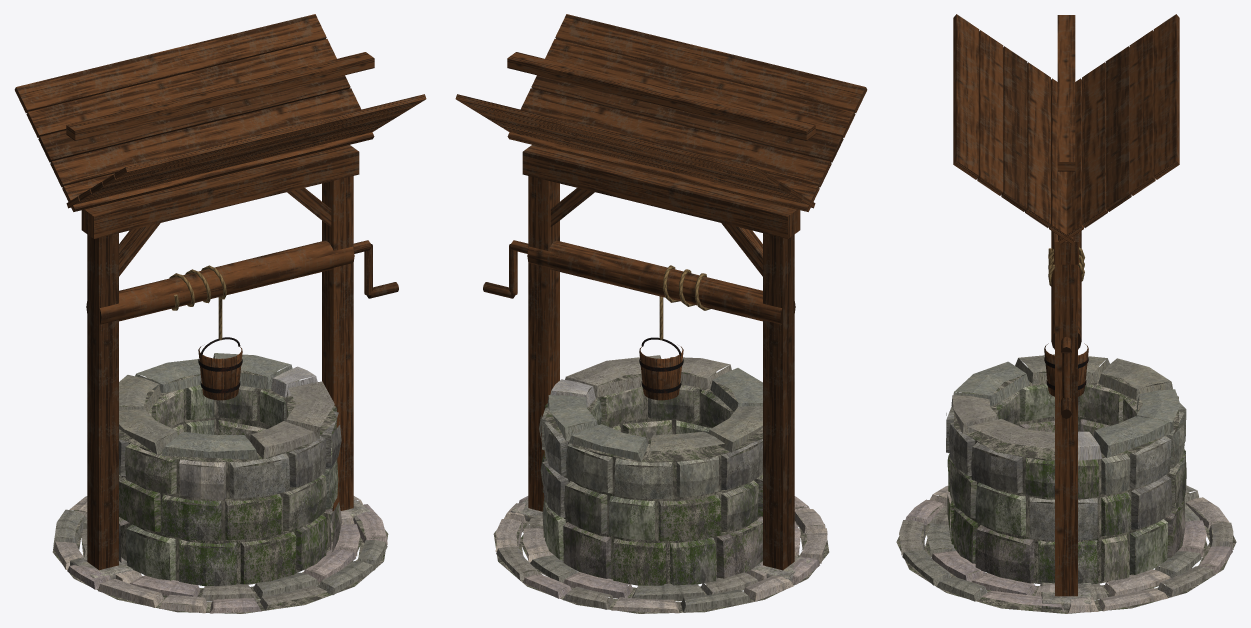
File: well.glb
The picture shows the model from 3 angles, left to right: view 1: azimuth 30°, elevation 25°; view 2: azimuth 150°, elevation 25°; view 3: azimuth 270°, elevation 25°; orthographic projection.
Visible parts, largest first — view 1: well; view 2: well; view 3: well.
Part boxes in pixels (x1,y1,x2,y2): well: [14, 14, 426, 613]; well: [455, 14, 867, 613]; well: [896, 14, 1236, 613].
Bounding box in the file's own units: 2.11 × 2.8 × 1.9.
7 materials, 7 textured.
